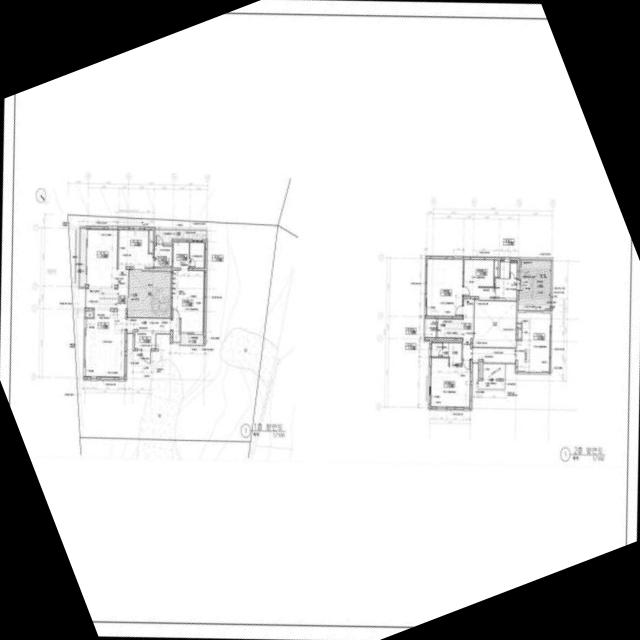background: (0, 0, 640, 640)
space_bedroom: (426, 259, 462, 316), (430, 358, 470, 407), (172, 270, 203, 333)
space_dressroom: (463, 259, 493, 286), (173, 242, 188, 268)
space_front: (134, 332, 154, 348)
space_kitchen: (86, 229, 118, 287), (118, 230, 152, 267)
space_living_room: (84, 269, 179, 376)
space_other: (516, 313, 550, 371), (462, 299, 471, 358), (472, 348, 515, 360), (154, 246, 171, 268), (463, 287, 493, 297), (494, 260, 498, 277), (149, 230, 152, 252), (85, 309, 93, 317)
space_staircase: (86, 288, 118, 308), (437, 319, 463, 337)
space_toilet: (495, 261, 516, 298), (189, 242, 204, 268), (442, 343, 461, 363), (424, 318, 435, 337), (431, 343, 442, 356), (510, 263, 517, 278)
